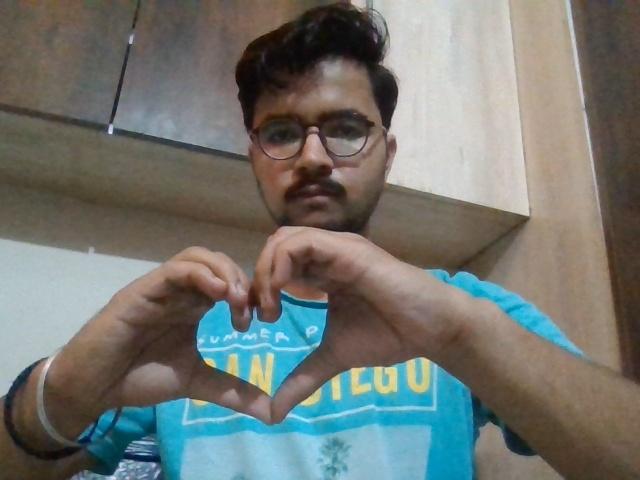iloveyou: (114, 226, 457, 428)
